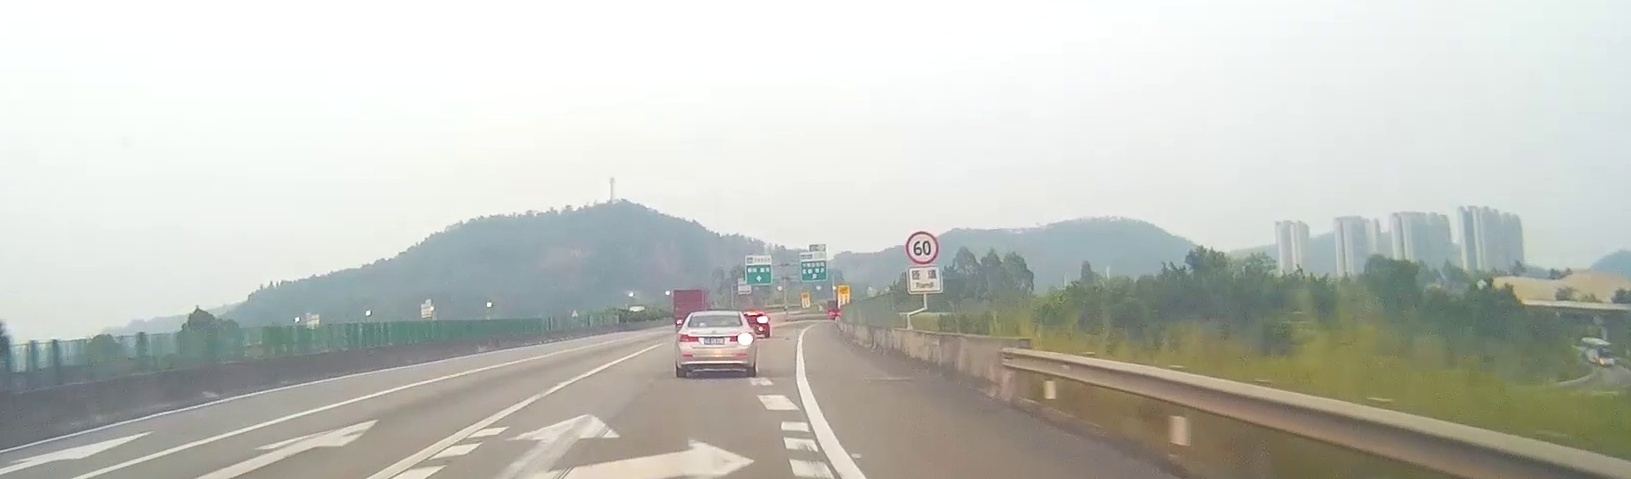L_light: (677, 334, 698, 342)
R_light: (731, 335, 753, 342)
T_light: (711, 316, 721, 318)
day-right: (674, 310, 758, 378)
